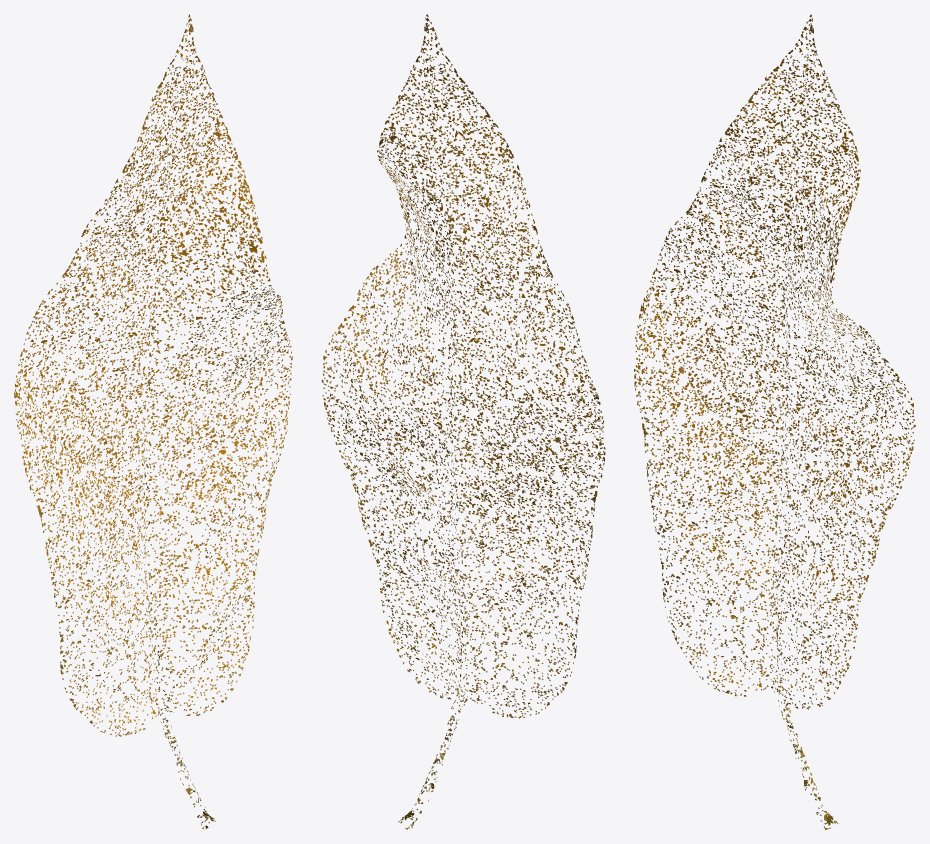
Rendered from leaf2.glb.
The picture shows the model from 3 angles, left to right: view 1: azimuth 30°, elevation 25°; view 2: azimuth 150°, elevation 25°; view 3: azimuth 330°, elevation 25°; orthographic projection.
Parts seen in each view (by area): view 1: QS1330-W27-files1-1; view 2: QS1330-W27-files1-1; view 3: QS1330-W27-files1-1.
Boxes of the visible parts, x1,y1,x2,y2 form: QS1330-W27-files1-1: [14, 14, 292, 829]; QS1330-W27-files1-1: [321, 14, 605, 829]; QS1330-W27-files1-1: [634, 14, 915, 829].
Bounding box in the file's own units: 2.91 × 8.15 × 0.6898.
Materials: 1 (1 with a texture image).
